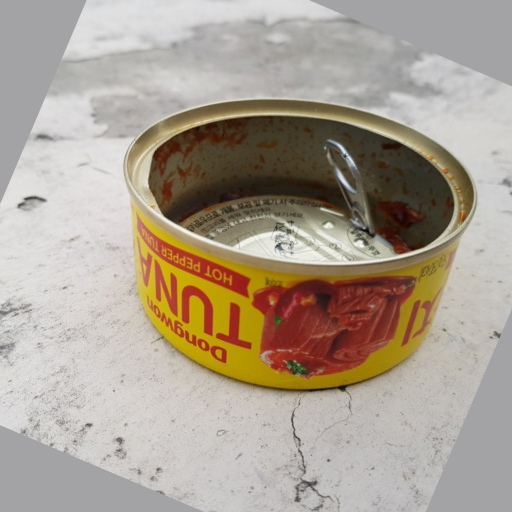Metal_1: (122, 99, 479, 390)
